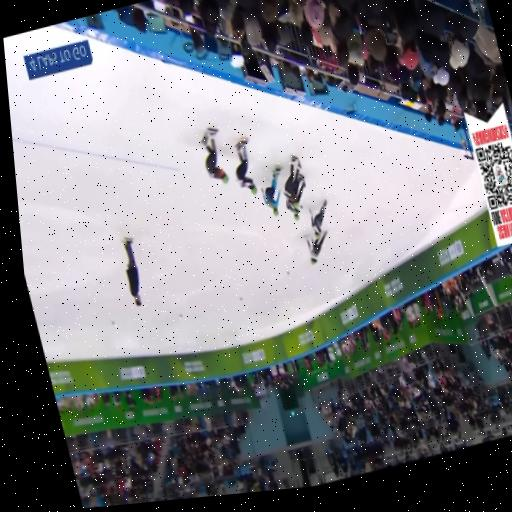Skater: (201, 128, 228, 182), (236, 138, 257, 193), (262, 167, 280, 215), (285, 155, 301, 207), (306, 231, 327, 263), (310, 200, 327, 237), (297, 174, 306, 201)
